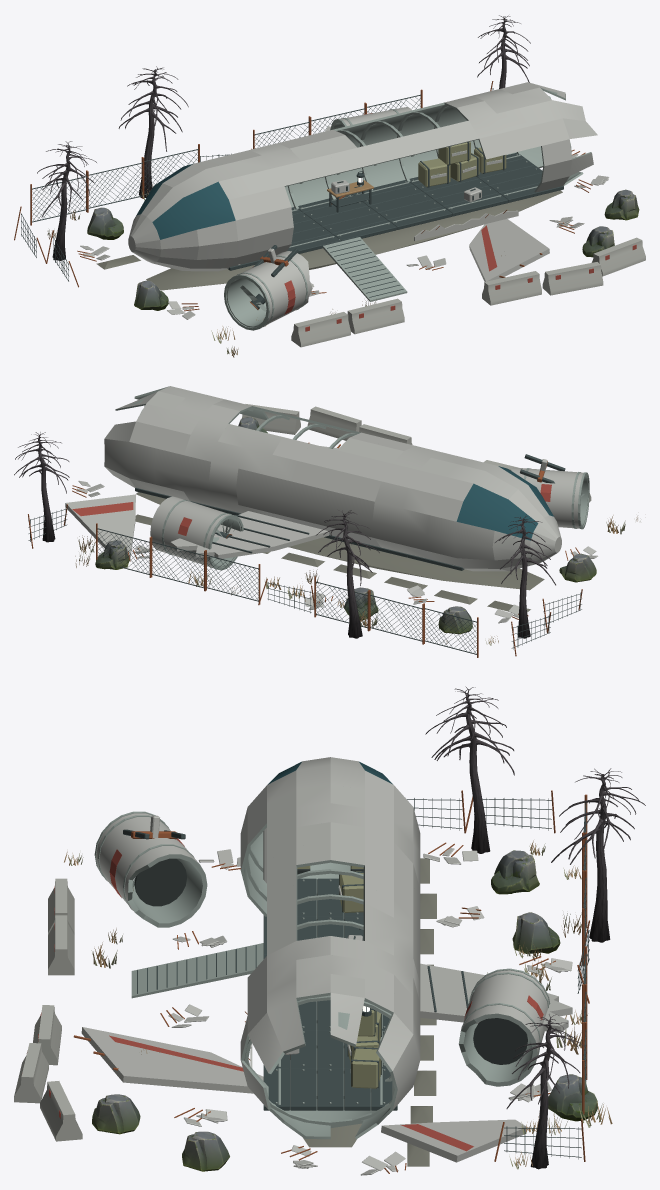
Rendered from crashsite_edit.glb.
The picture shows the model from 3 angles, top to bottom: view 1: azimuth 30°, elevation 25°; view 2: azimuth 150°, elevation 25°; view 3: azimuth 270°, elevation 25°; orthographic projection. The views are drawn at different scales.
Parts seen in each view (by area): view 1: Crashsite, Debris_Cluster_3; view 2: Crashsite, Debris_Cluster_3; view 3: Crashsite, Debris_Cluster_3.
Boxes of the visible parts, x1=… form: Crashsite: x1=14, y1=15, x2=645, y2=347; Debris_Cluster_3: x1=77, y1=149, x2=609, y2=357; Crashsite: x1=14, y1=386, x2=596, y2=657; Debris_Cluster_3: x1=65, y1=480, x2=640, y2=623; Crashsite: x1=14, y1=686, x2=645, y2=1171; Debris_Cluster_3: x1=64, y1=842, x2=572, y2=1175.
Size of what is drawn, in the model's own units: 28.07 by 6.78 by 21.13.
Materials: 14 (2 with a texture image).
